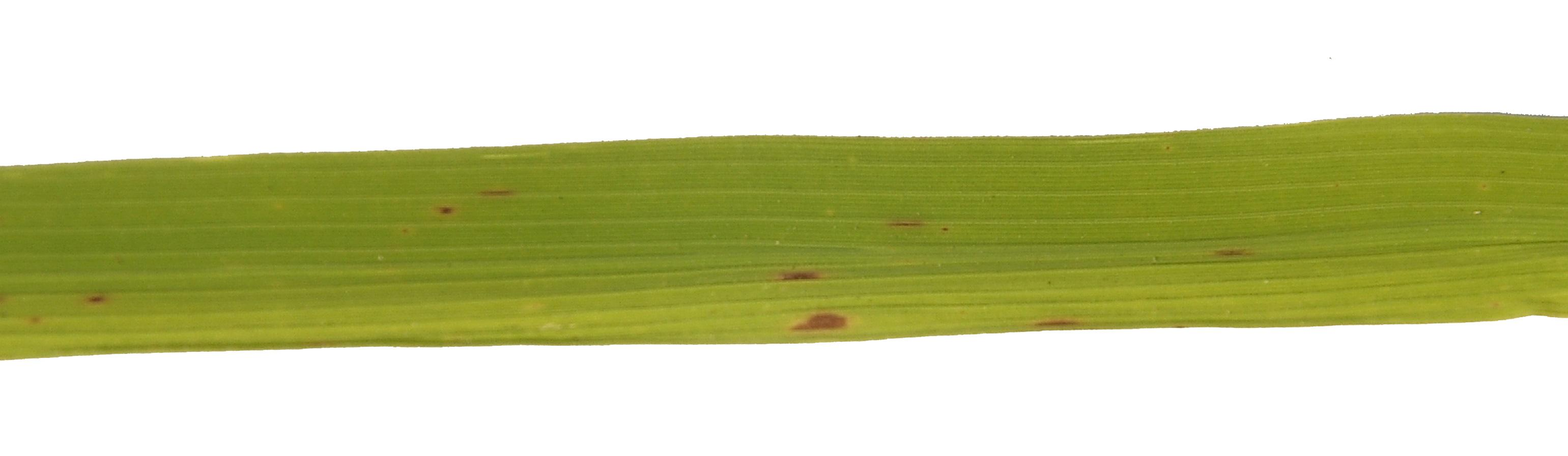Brown spot: (797, 310, 874, 337), (772, 259, 823, 293)
